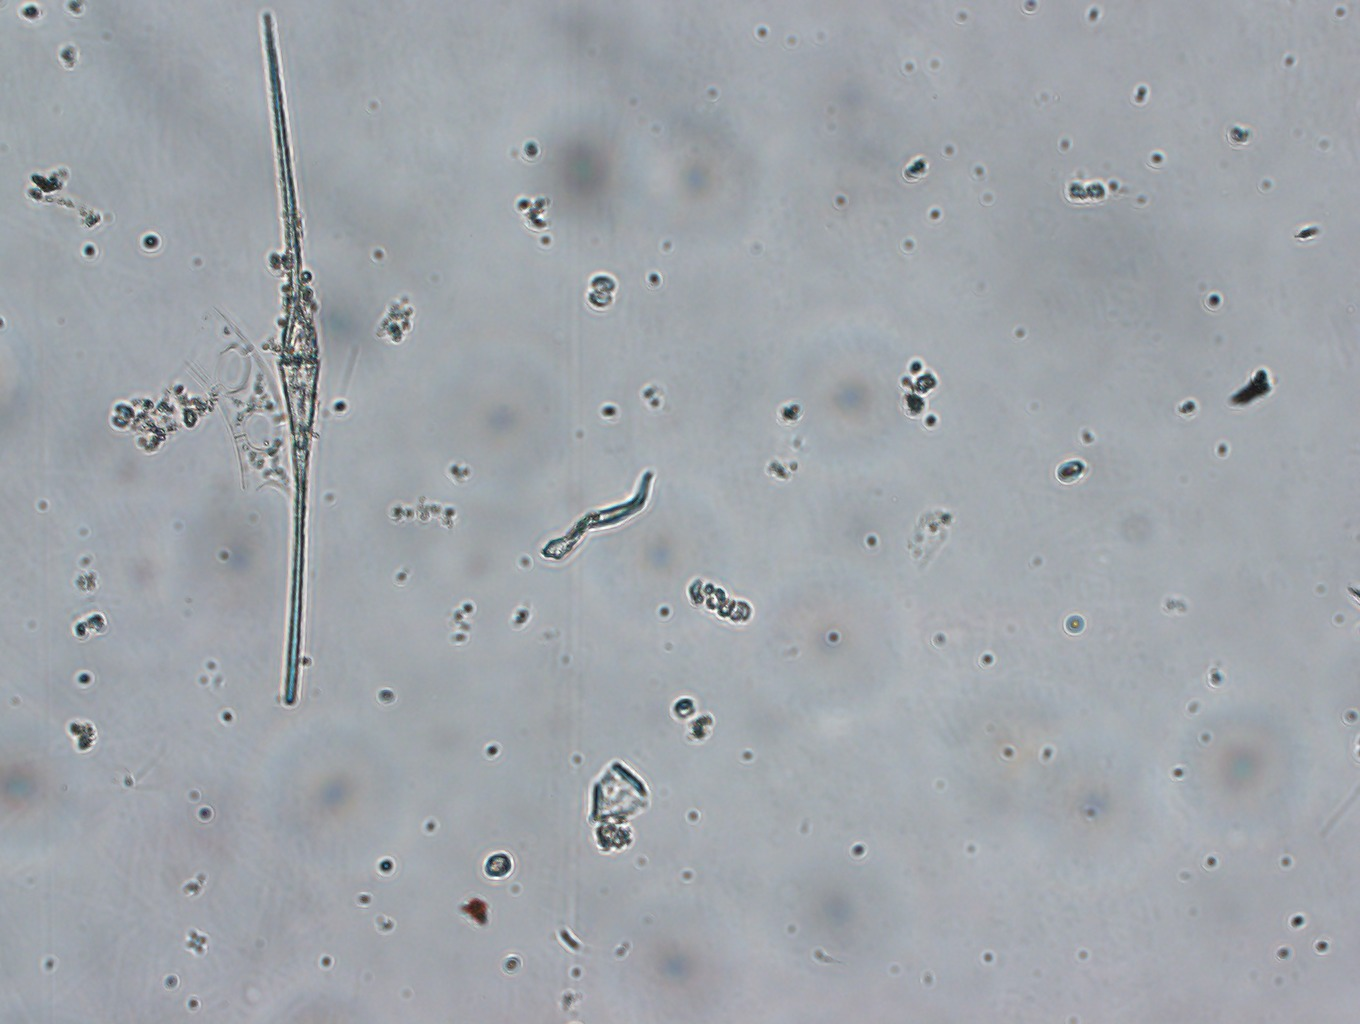ceratium fusus: (243, 9, 337, 710)
eucampia: (169, 297, 298, 501)
